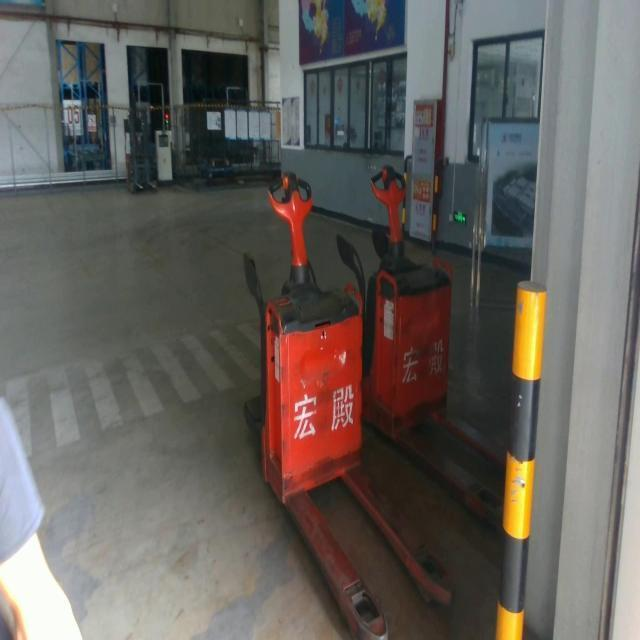forklift: (242, 170, 457, 640), (335, 162, 521, 531), (123, 117, 159, 197)
